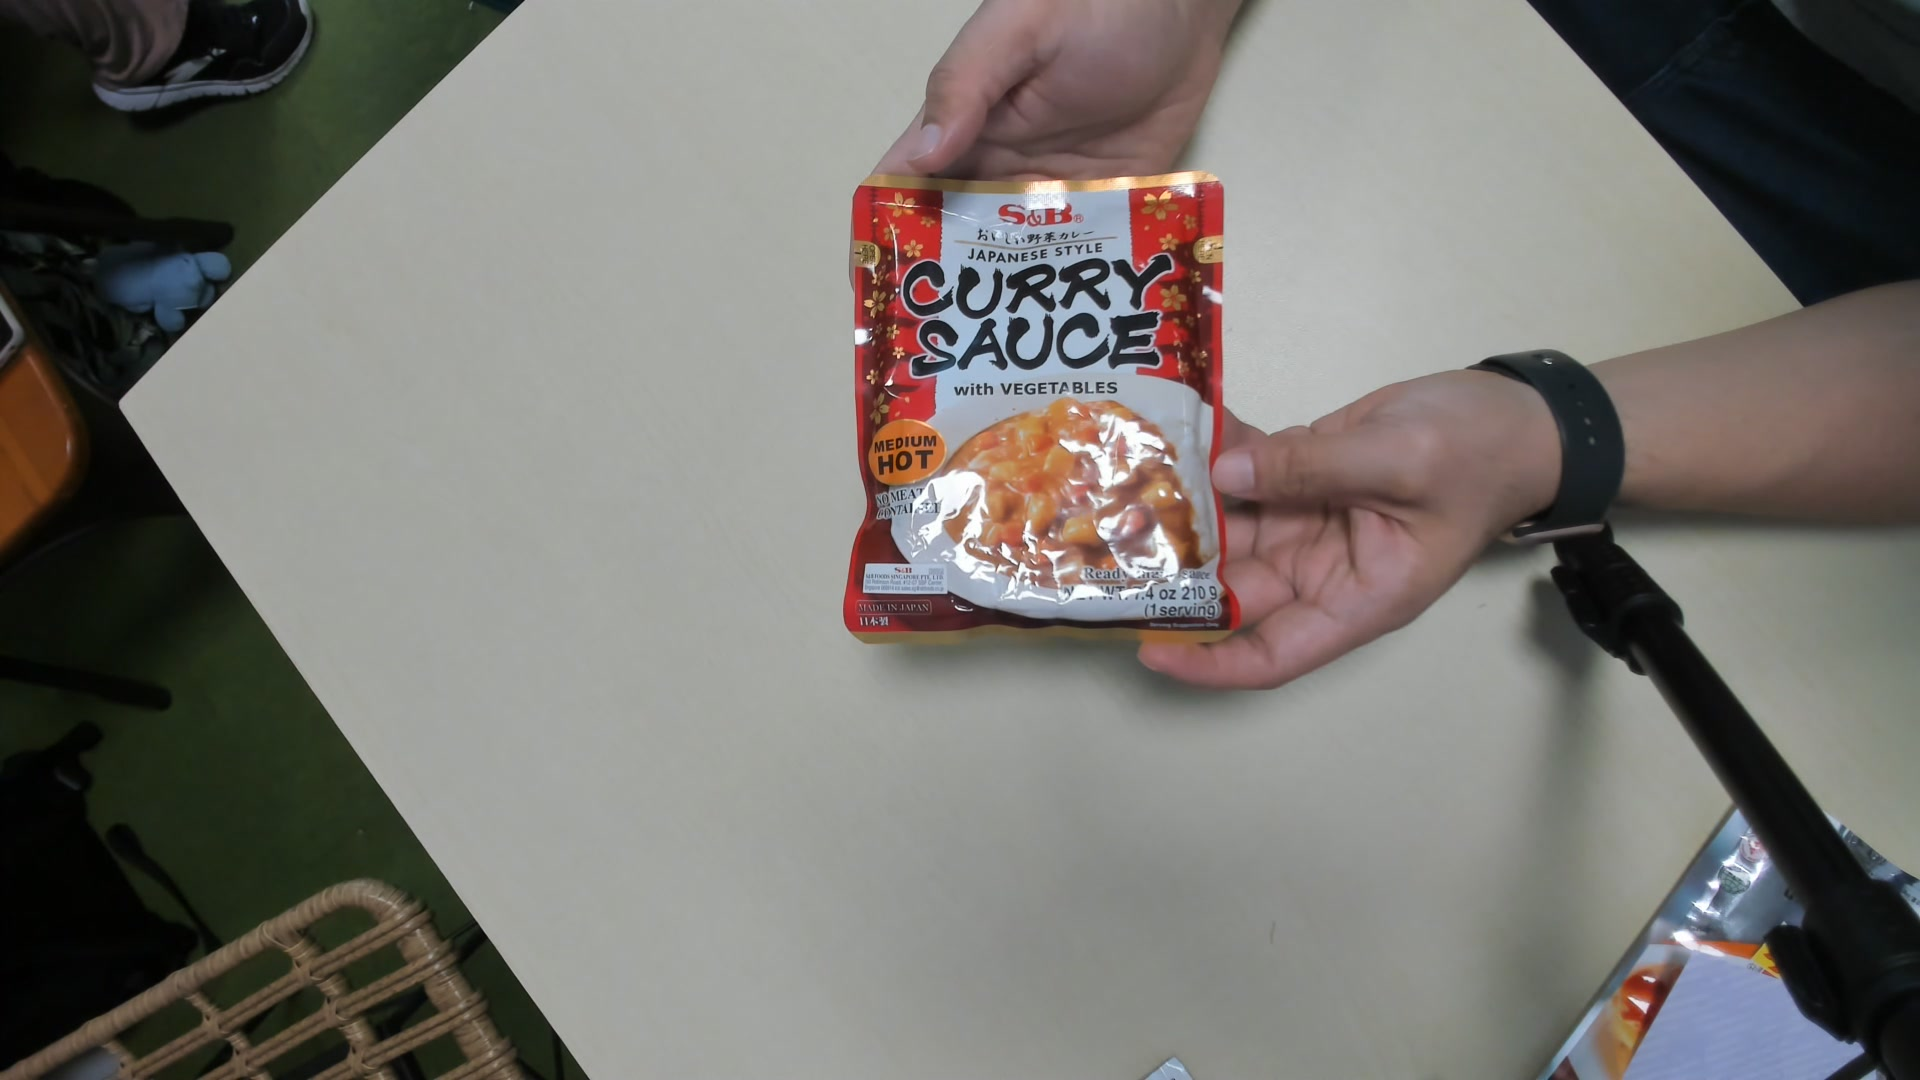CurryPastePowderSauce_200-299g_NonHalal_NonHealthy: (844, 171, 1242, 640)
